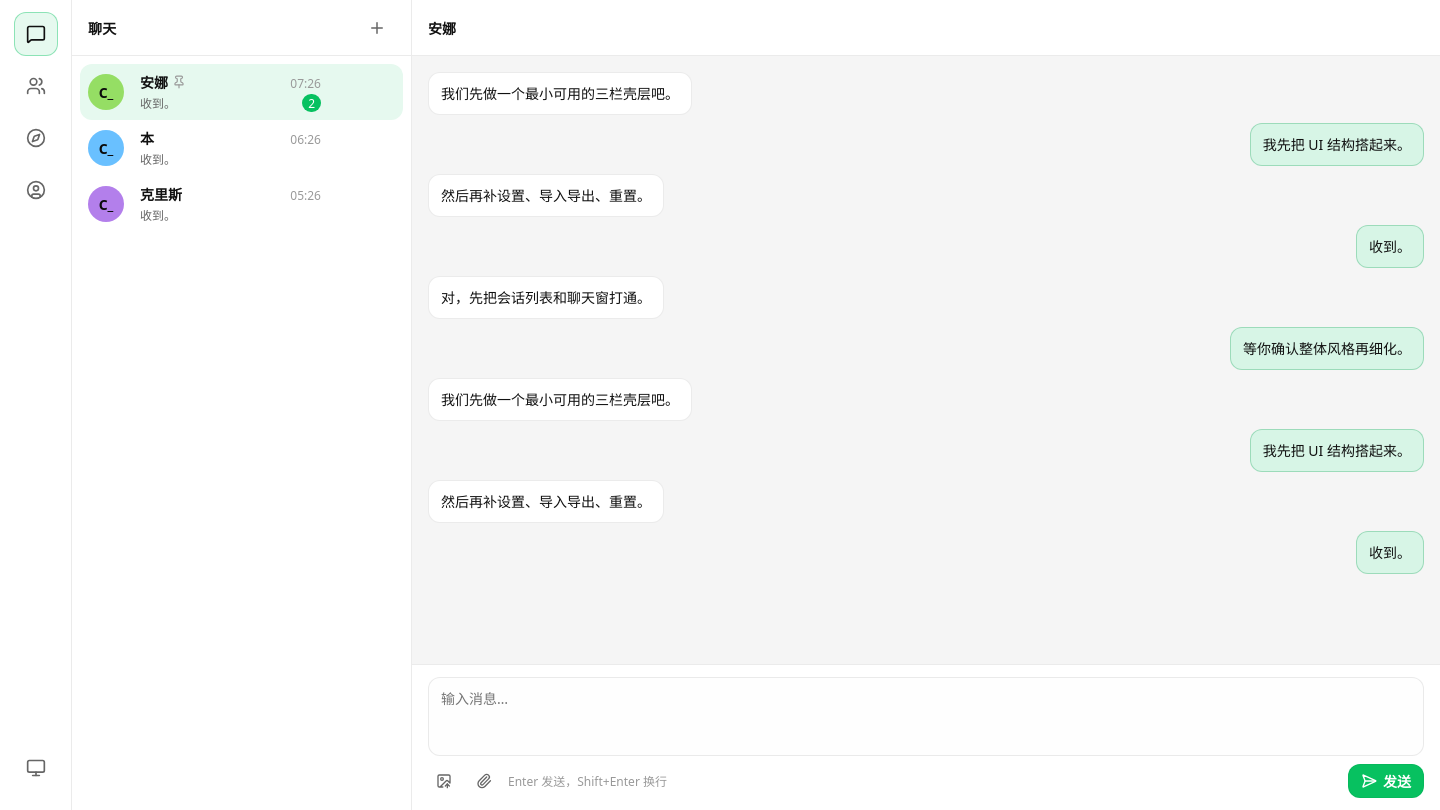
App › 可以发送一条文本消息并出现在消息列表中
Step 1. Type "测试消息" into the text box named "消息输入框" → (926, 716), box [428,677,1424,756]
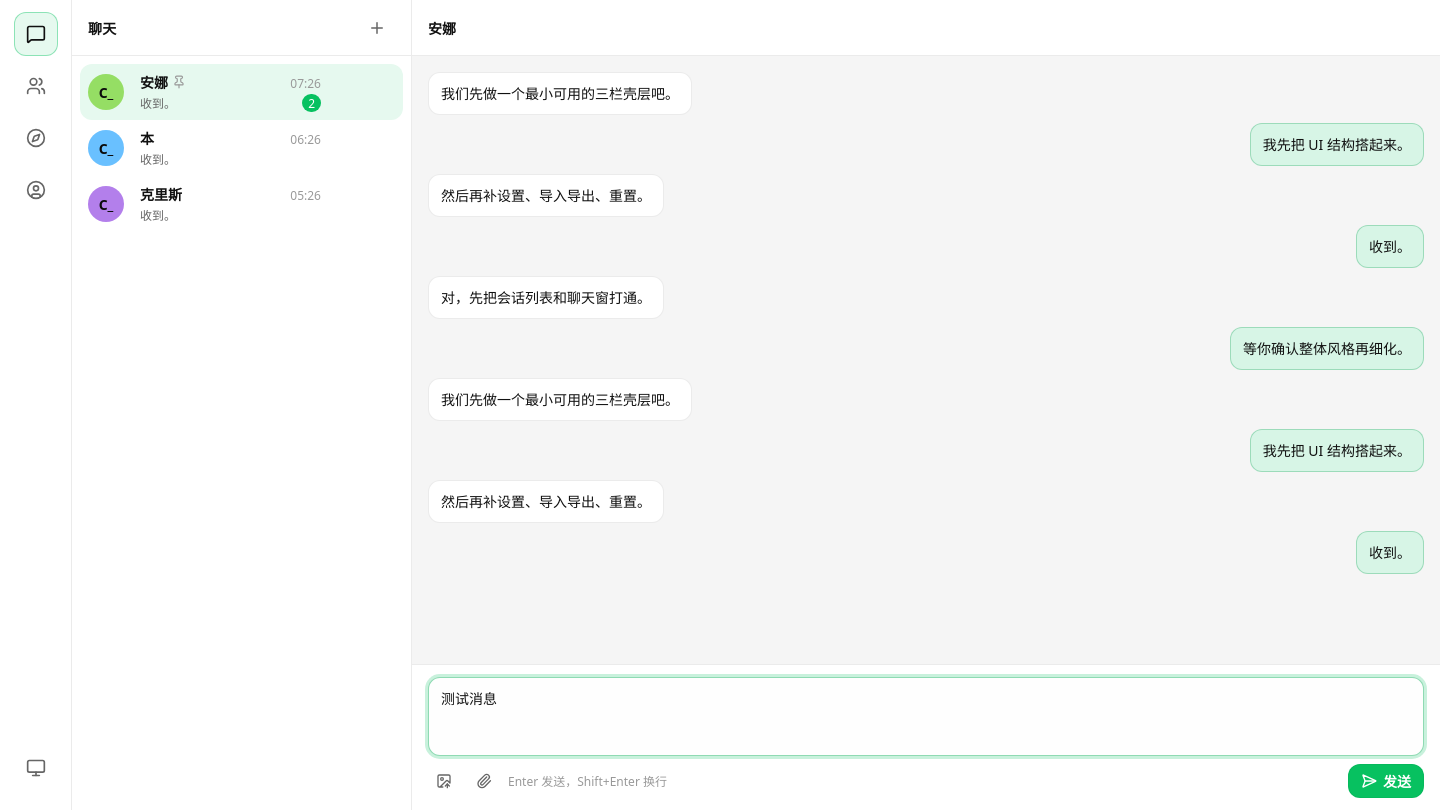
Step 2. Press Enter
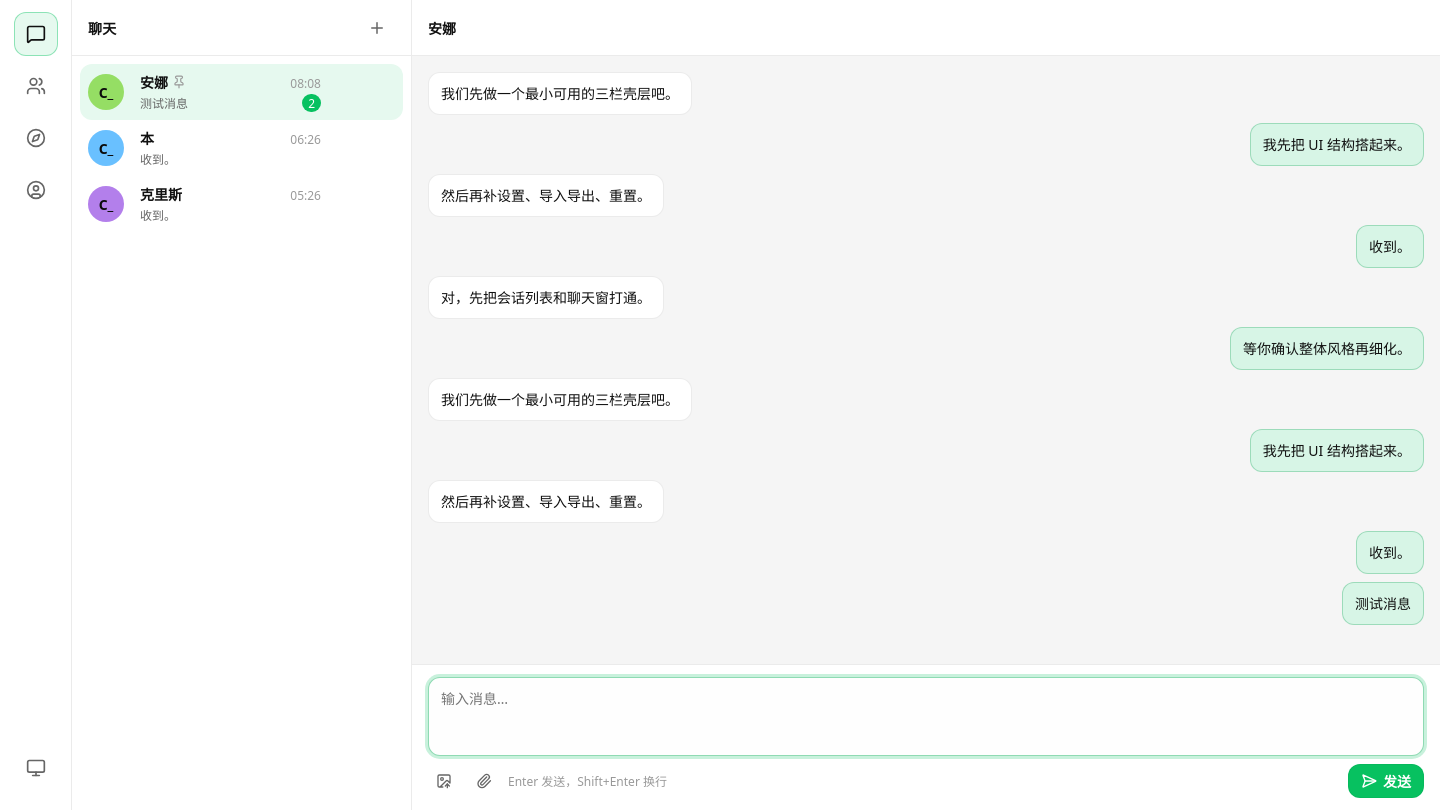
Now the text "测试消息" below "08:08" is shown, box [140,95,188,112]
